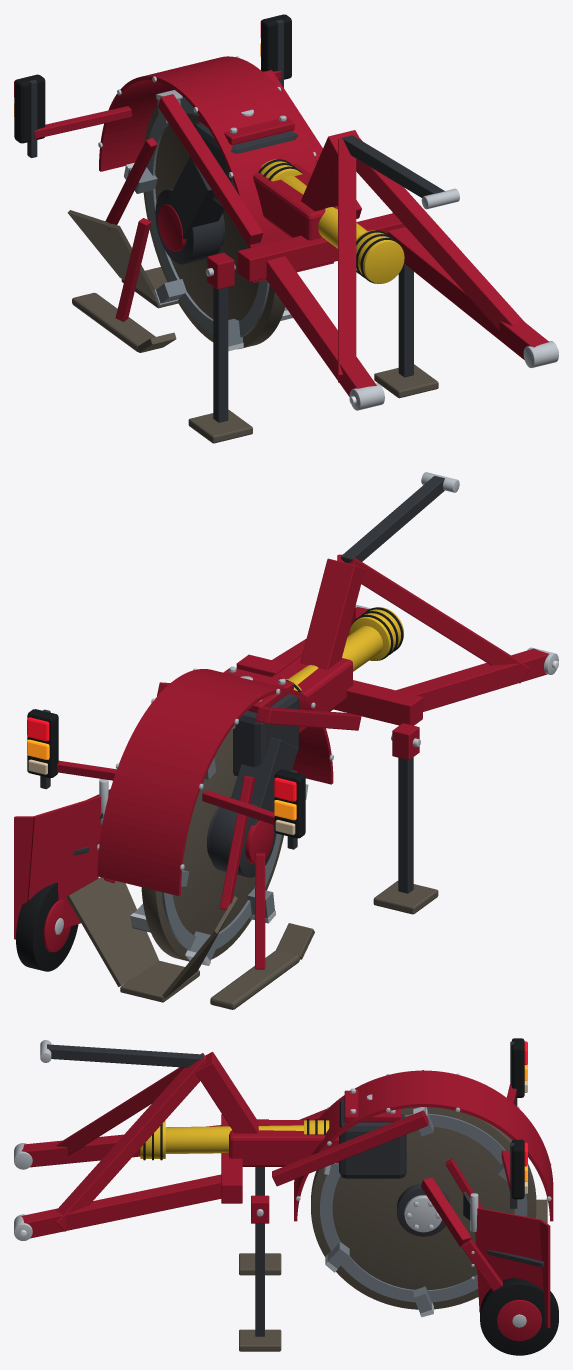
File: ditcher.glb
The picture shows the model from 3 angles, top to bottom: view 1: azimuth 30°, elevation 25°; view 2: azimuth 150°, elevation 25°; view 3: azimuth 270°, elevation 25°; orthographic projection. The views are drawn at different scales.
Parts seen in each view (by area): view 1: DitchFrame, DiggerDisc; view 2: DitchFrame, DiggerDisc, DeflectorPlate; view 3: DitchFrame, DiggerDisc, DeflectorPlate.
Part boxes in pixels (x1,y1,x2,y2): DitchFrame: (14, 14, 558, 443); DiggerDisc: (124, 90, 292, 351); DitchFrame: (16, 472, 558, 1009); DiggerDisc: (130, 724, 308, 965); DeflectorPlate: (14, 779, 109, 939); DitchFrame: (14, 1038, 558, 1355); DiggerDisc: (311, 1107, 536, 1317); DeflectorPlate: (463, 1191, 550, 1328).
Bounding box in the file's own units: 0.94 × 1.02 × 1.93.
